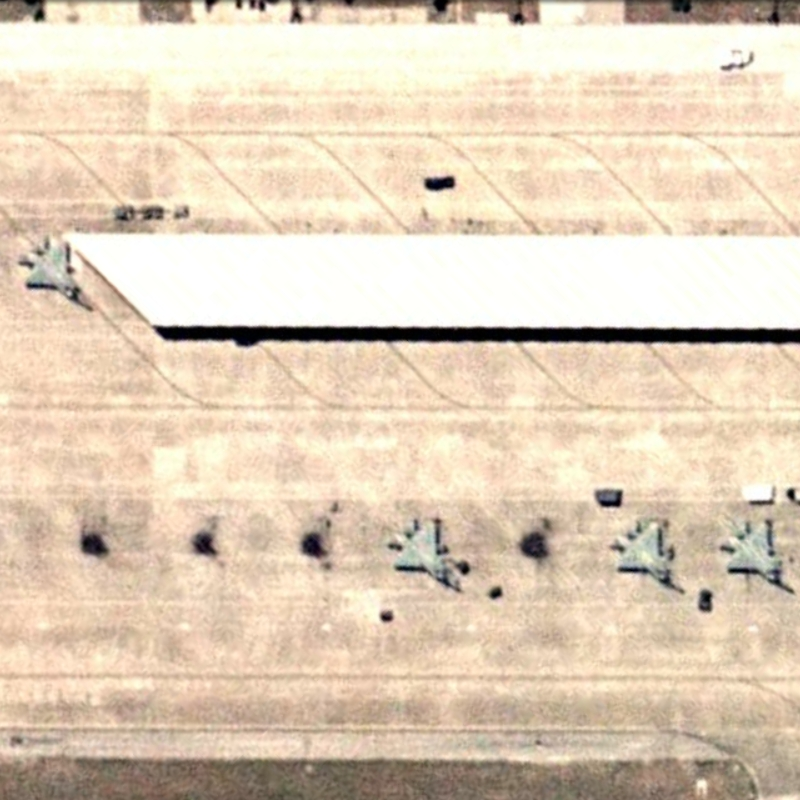A13: (12, 232, 99, 319), (714, 515, 800, 603), (380, 514, 470, 597), (607, 515, 691, 601)
